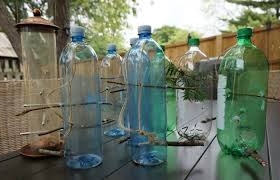plastic water bottle: (215, 26, 269, 160), (58, 26, 107, 171), (123, 25, 171, 169), (174, 35, 215, 144), (99, 44, 125, 138)
